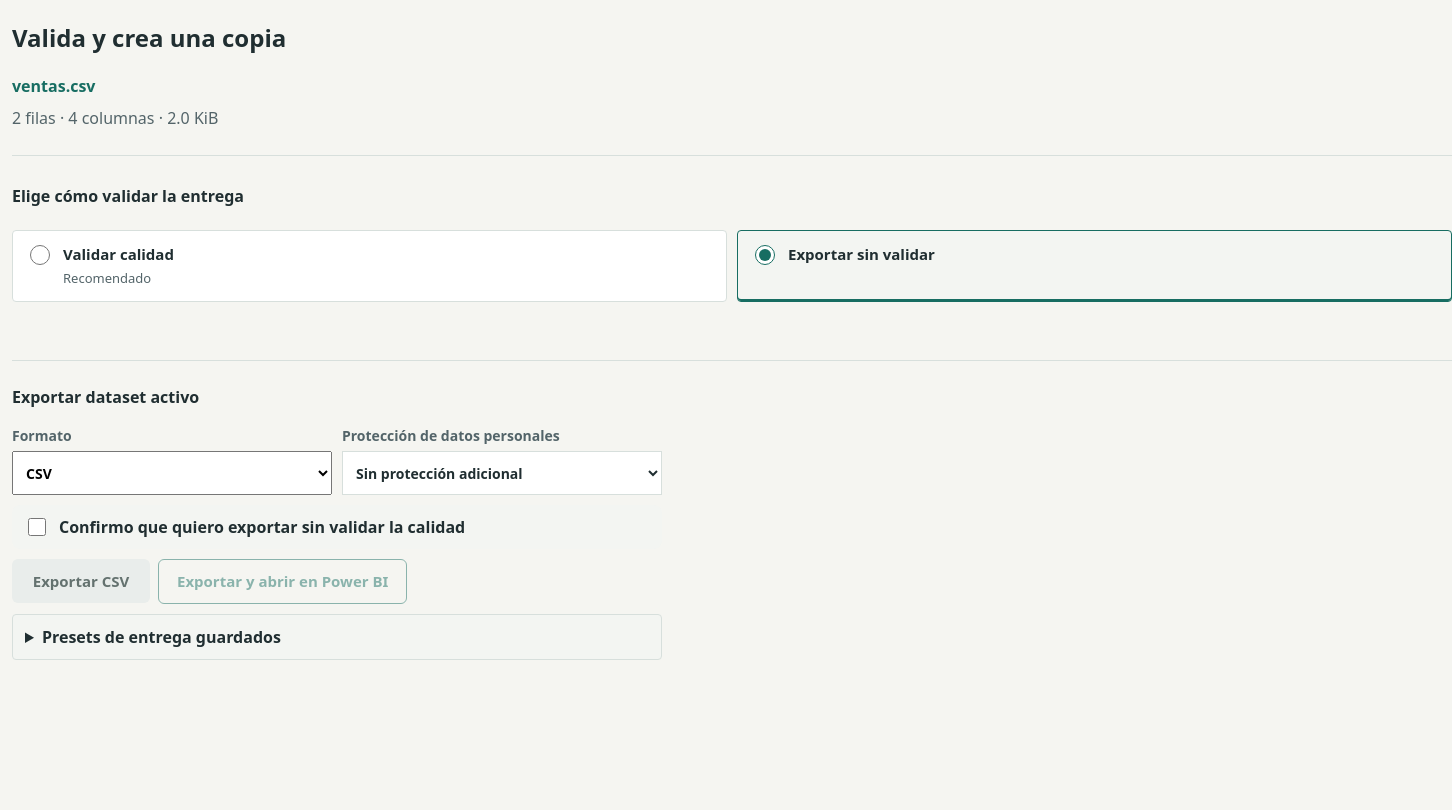
Test: señales de datos personales en Entregar › solo ofrece Exportar y abrir en Power BI para CSV, Excel y Parquet
Check: the button "Exportar y abrir en Power BI" is shown, box [158,559,407,604]
Select "Parquet" in the dropdown labelled "Formato": (172, 473) [12,451,332,495]
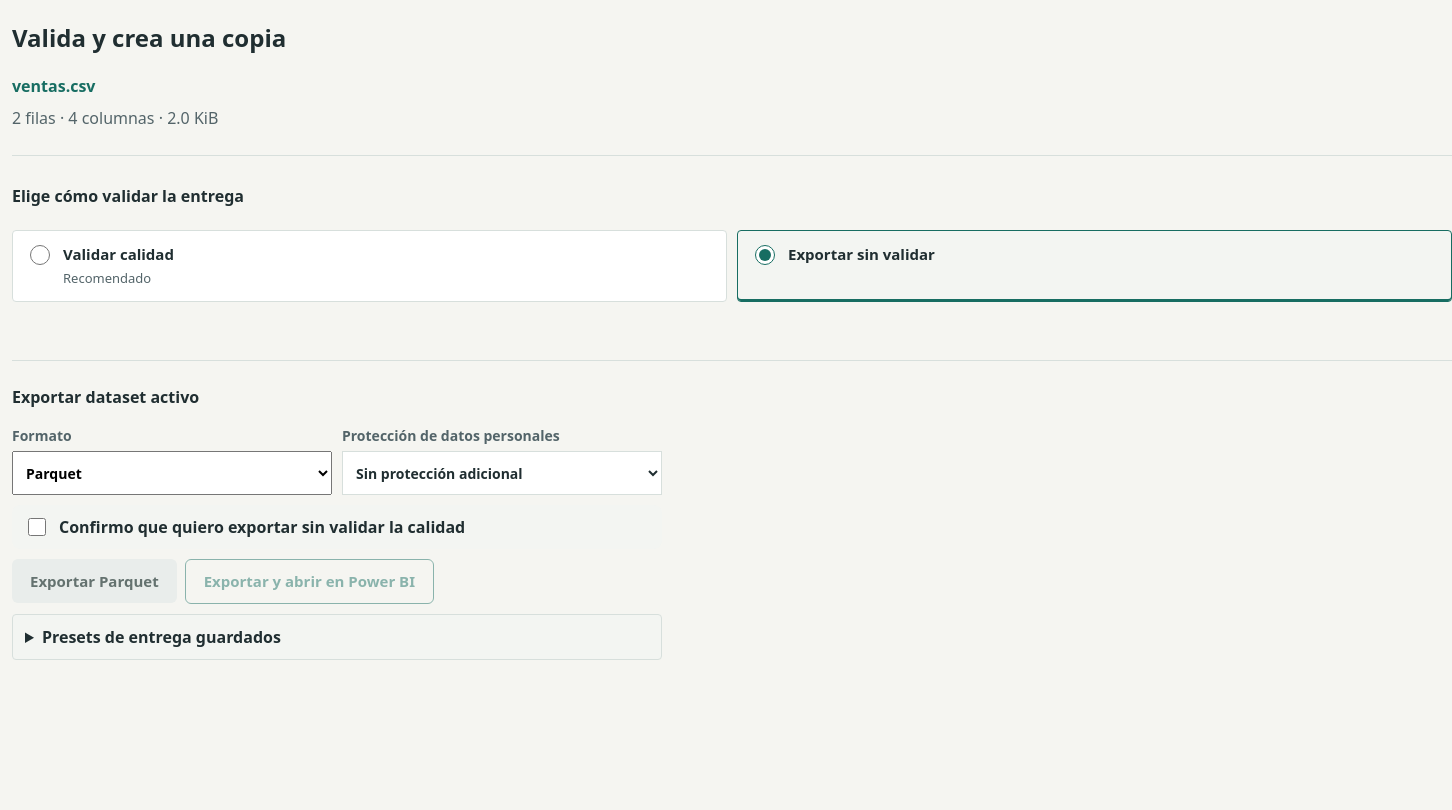
Check: the button "Exportar y abrir en Power BI" is shown, box [185,559,434,604]
Select "JSON" in the dropdown labelled "Formato": (172, 473) [12,451,332,495]
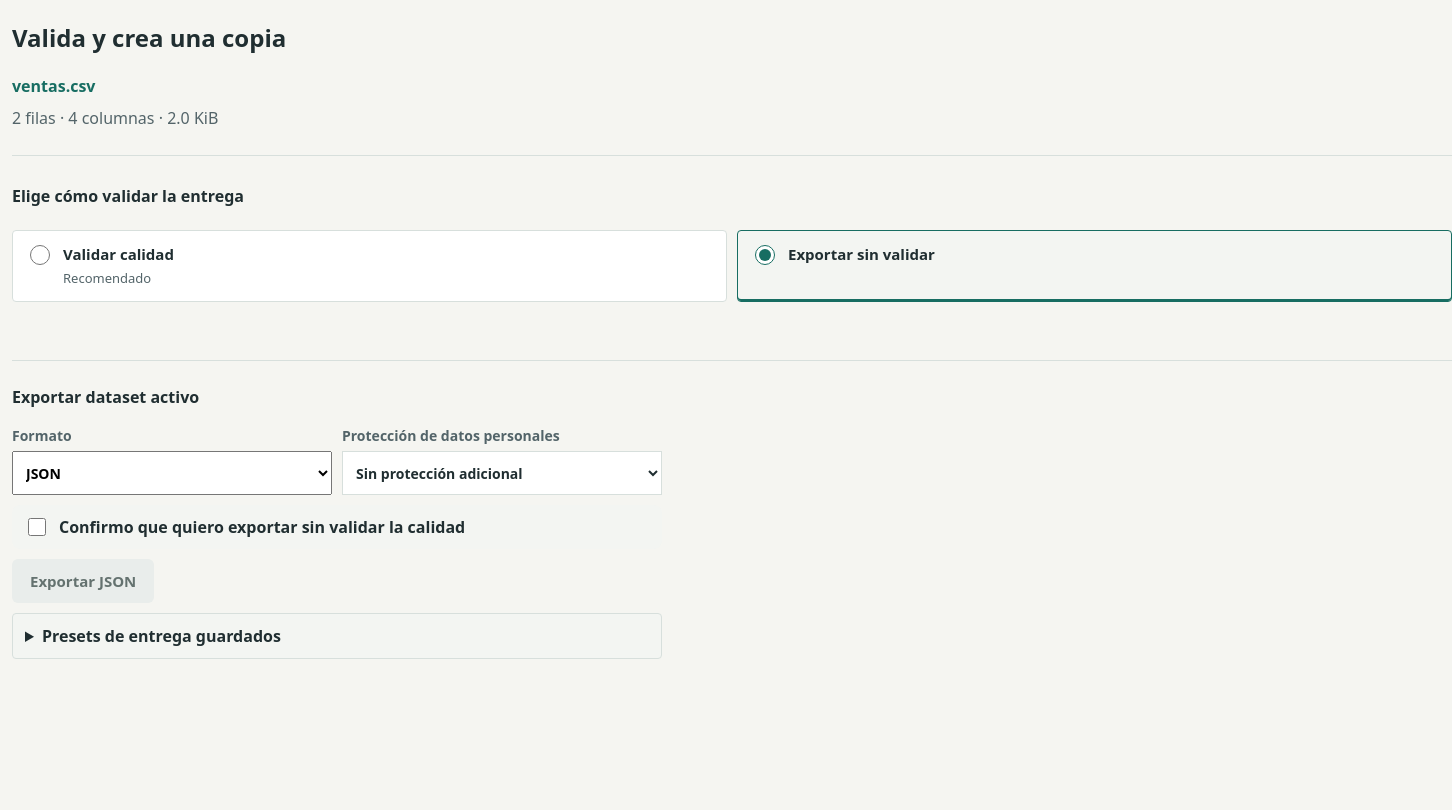
Check: the button "Exportar y abrir en Power BI" is gone
